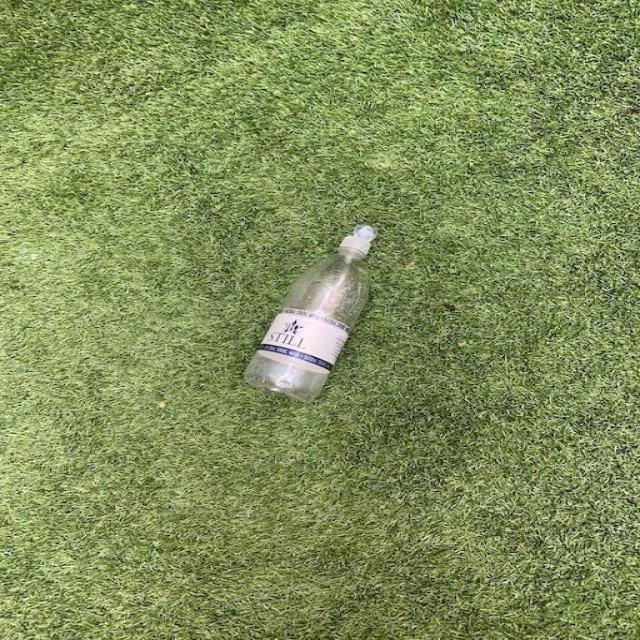plastic bottle: (240, 224, 378, 400)
